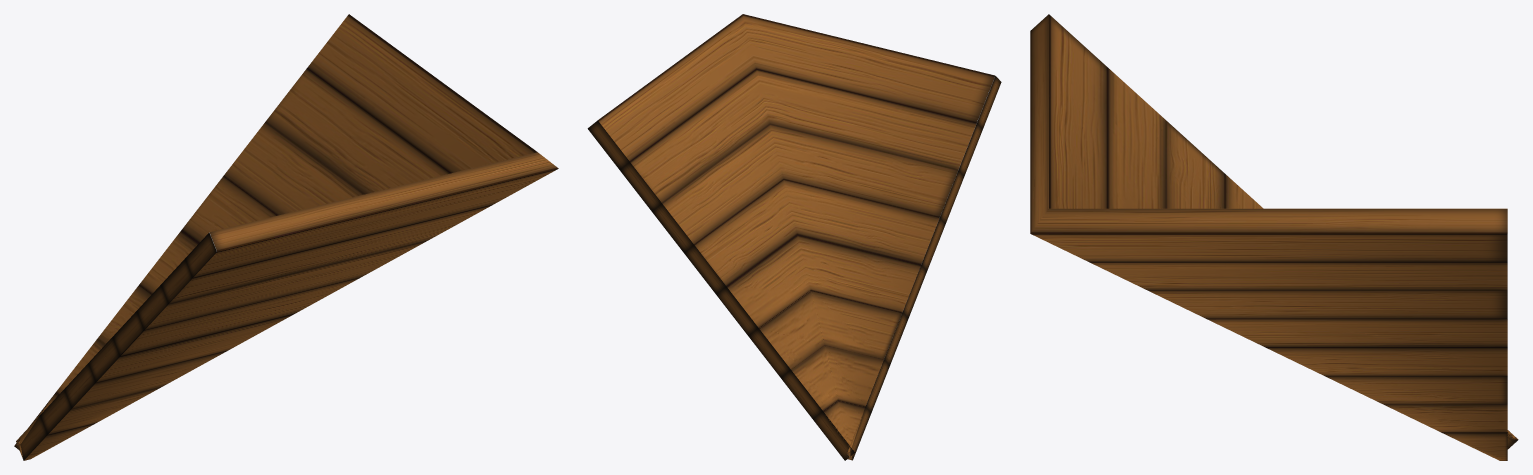
File: Roof_Int_angle.fbx
3 renders of one model, left to right at view 1: azimuth 30°, elevation 25°; view 2: azimuth 150°, elevation 25°; view 3: azimuth 270°, elevation 25°, orthographic. The views are drawn at different scales.
Visible parts, largest first — view 1: Roof_Int_angle; view 2: Roof_Int_angle; view 3: Roof_Int_angle.
Boxes of the visible parts, x1,y1,x2,y2 form: Roof_Int_angle: (14,14,558,460); Roof_Int_angle: (587,14,1001,460); Roof_Int_angle: (1030,14,1518,460).
Size of the model in its own units: 0.0735 by 0.0735 by 0.0735.
Materials: 1 (1 with a texture image).
